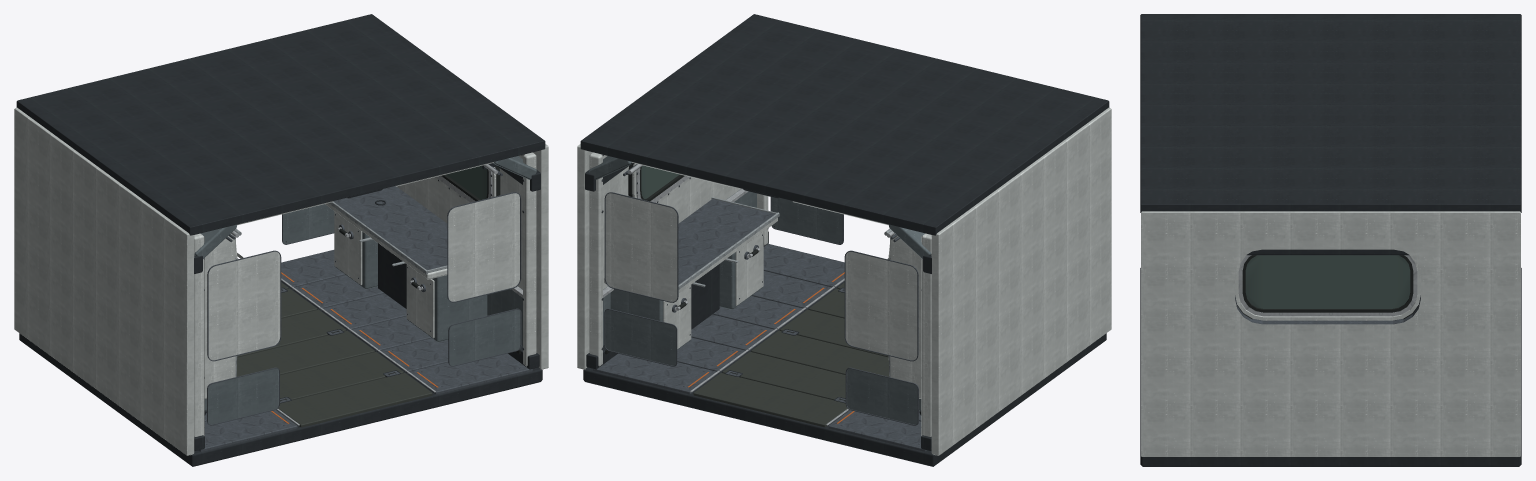
The model's file is shell.fbx.
3 renders of one model, left to right at view 1: azimuth 30°, elevation 25°; view 2: azimuth 150°, elevation 25°; view 3: azimuth 270°, elevation 25°, orthographic. The views are drawn at different scales.
Parts seen in each view (by area): view 1: SM_shell; view 2: SM_shell; view 3: SM_shell.
Boxes of the visible parts, x1,y1,x2,y2 form: SM_shell: (14,14,548,466); SM_shell: (577,14,1111,466); SM_shell: (1140,14,1521,466).
Bounding box in the file's own units: 4.59 × 2.92 × 3.81.
18 materials, 14 textured.
